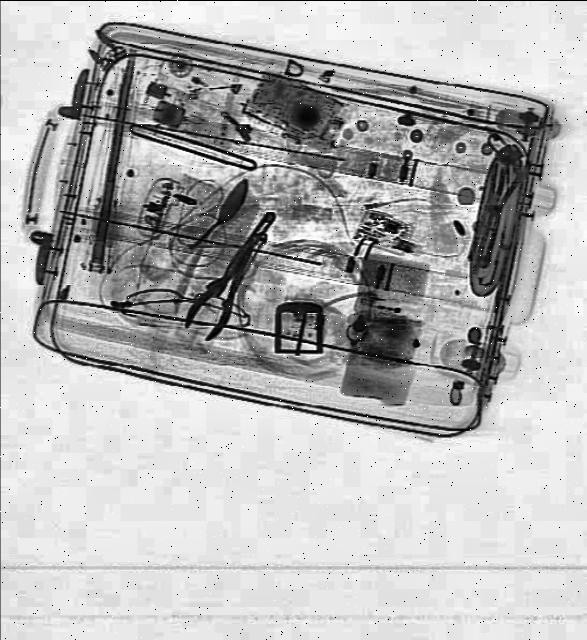Pliers: (176, 232, 272, 348)
